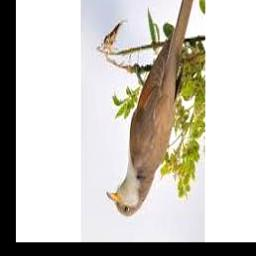Cuckoo: (107, 0, 201, 217)
